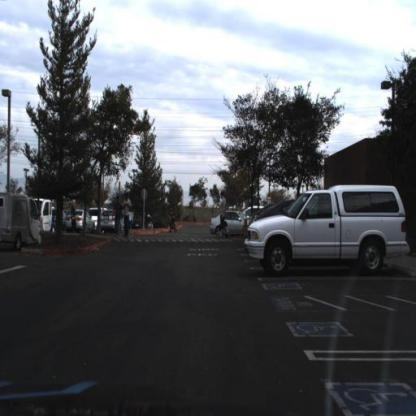biker: (169, 206, 178, 235)
car: (246, 185, 416, 275), (1, 195, 42, 254), (210, 208, 254, 240), (211, 211, 249, 238), (67, 208, 96, 234), (64, 210, 93, 232), (41, 199, 57, 236), (98, 210, 120, 234), (99, 210, 118, 234), (218, 191, 228, 236)
pedestrian: (219, 192, 231, 243), (122, 192, 133, 239), (114, 197, 124, 237), (114, 196, 123, 237), (70, 198, 77, 234), (169, 208, 175, 236), (171, 209, 176, 232)
